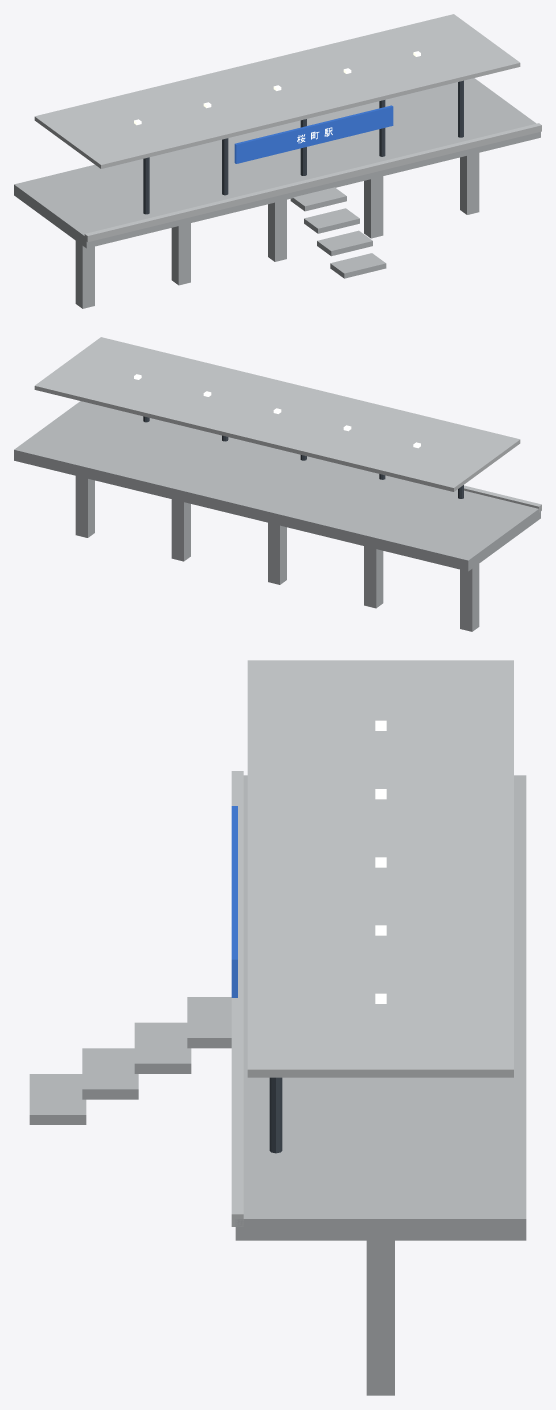
File: lm_station.glb
3 views of the same model, one above another, from view 1: azimuth 30°, elevation 25°; view 2: azimuth 150°, elevation 25°; view 3: azimuth 270°, elevation 25° (orthographic). The views are drawn at different scales.
Visible parts, largest first — view 1: canopy.001, deck.001, deck_edge.001, sign_band.001, column.005, column.008, column.009, column.006, column.007, stair.007, stair.005, stair.006 (+3 smaller); view 2: deck.001, canopy.001, column.005, column.008, column.009, column.006, column.007, deck_edge.001; view 3: canopy.001, deck.001, deck_edge.001, column.009, stair.005, stair.006, stair.007, stair.004, sign_band.001, canopy_post.009.
Part boxes in pixels (x1,y1,x2,y2): canopy.001: [34, 14, 520, 168]; deck.001: [14, 78, 540, 248]; deck_edge.001: [84, 123, 541, 242]; sign_band.001: [234, 105, 393, 163]; column.005: [75, 241, 94, 308]; column.008: [364, 176, 383, 238]; column.009: [460, 153, 479, 214]; column.006: [171, 223, 190, 285]; column.007: [268, 199, 286, 261]; stair.007: [330, 253, 386, 278]; stair.005: [304, 208, 359, 233]; stair.006: [317, 230, 372, 256]; deck.001: [14, 401, 540, 571]; canopy.001: [34, 337, 520, 491]; column.005: [460, 564, 479, 631]; column.008: [171, 499, 190, 561]; column.009: [75, 476, 94, 537]; column.006: [364, 546, 383, 608]; column.007: [268, 522, 286, 584]; deck_edge.001: [464, 485, 541, 512]; canopy.001: [247, 660, 513, 1077]; deck.001: [235, 775, 526, 1240]; deck_edge.001: [231, 771, 243, 1226]; column.009: [366, 1240, 394, 1395]; stair.005: [134, 1022, 191, 1073]; stair.006: [82, 1048, 138, 1099]; stair.007: [29, 1074, 86, 1124]; stair.004: [187, 997, 231, 1048]; sign_band.001: [231, 806, 237, 997]; canopy_post.009: [269, 1077, 282, 1153].
Bounding box in the file's own units: 26 × 9.36 × 12.3.
